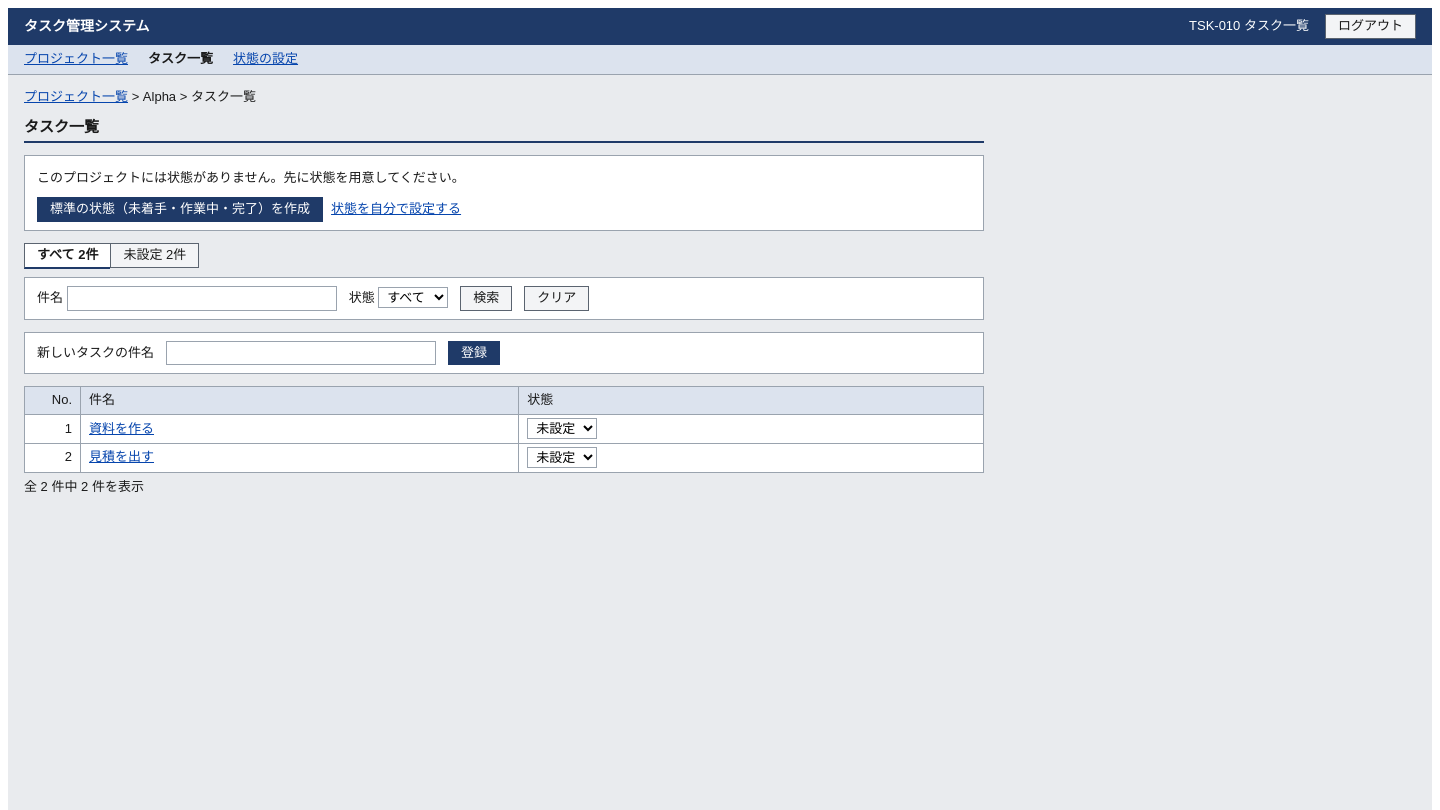
Test: task list: offers the standard columns when the project has none
Click the button "標準の状態（未着手・作業中・完了）を作成": coordinates (180, 210) [37,197,323,222]
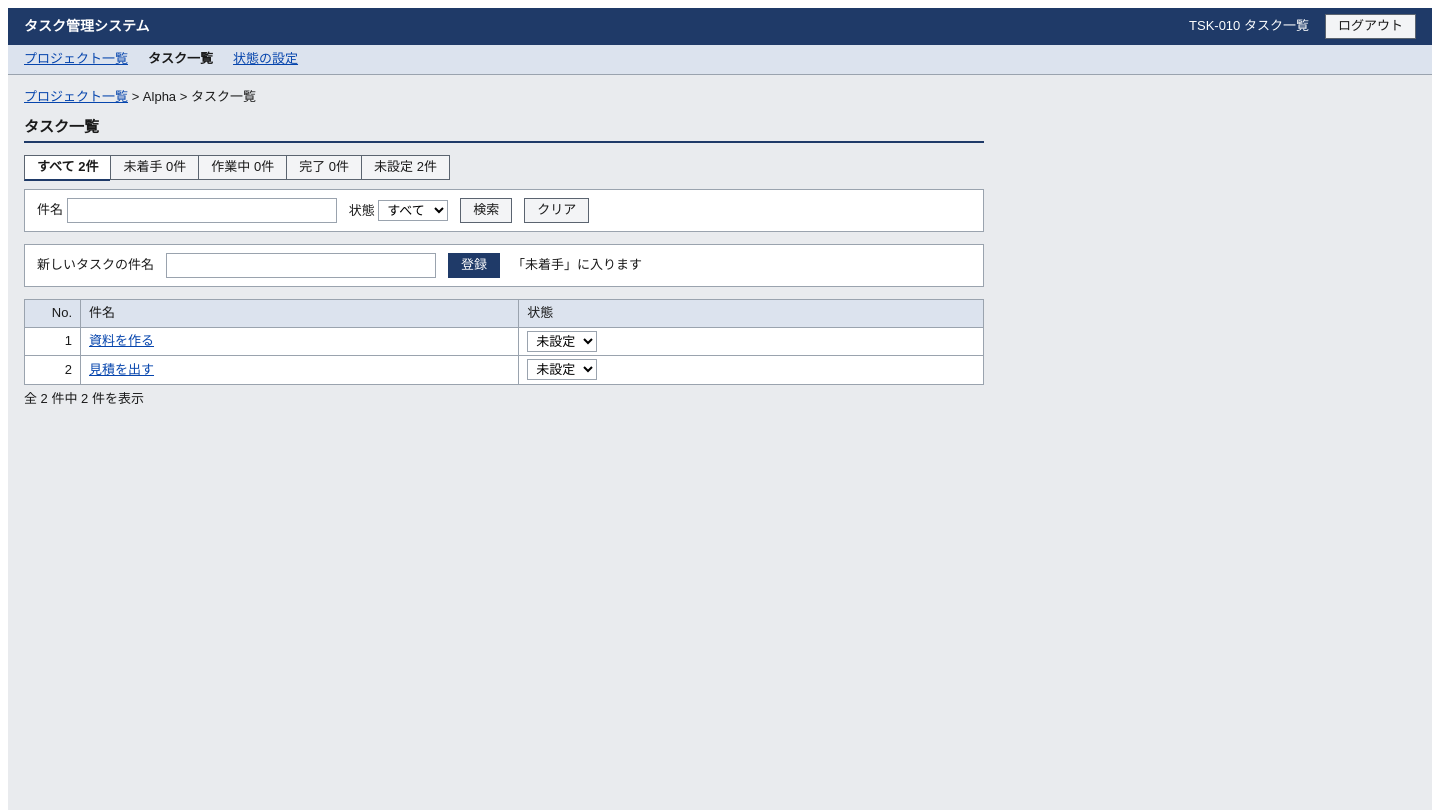
expect the button "作業中 0件" is shown: met, box [198,155,286,180]
